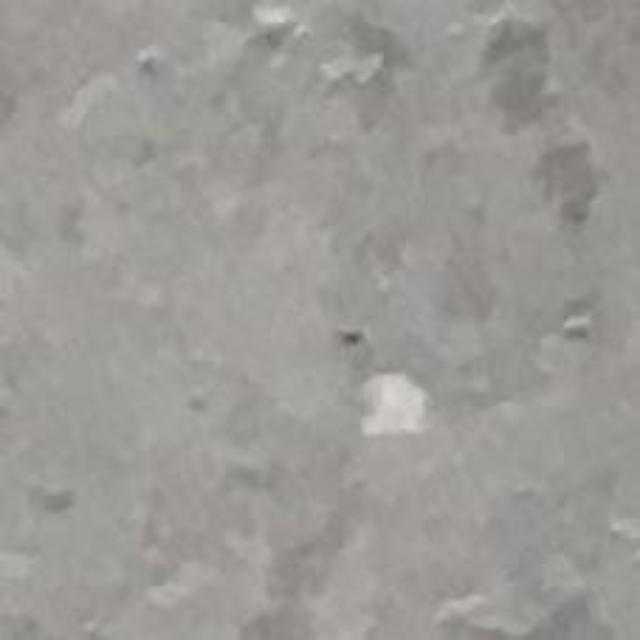peeling plaster: (361, 373, 434, 437)
